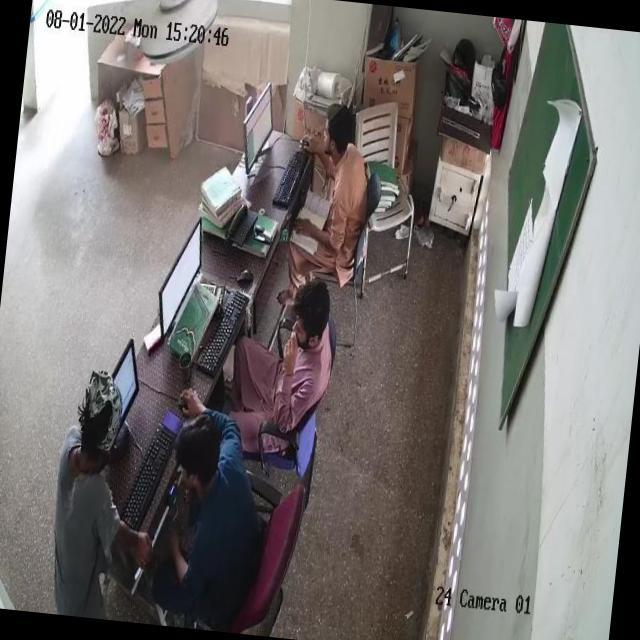person: (156, 402, 269, 606), (45, 363, 125, 618), (234, 268, 336, 438), (297, 114, 362, 265)
